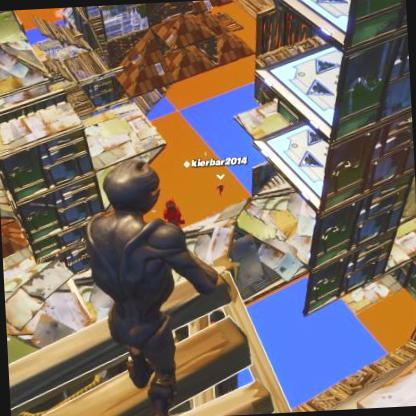person: (218, 184, 225, 196)
